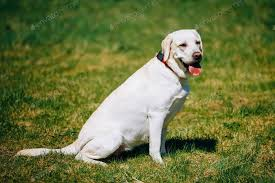dog_sitting: (67, 28, 205, 175)
